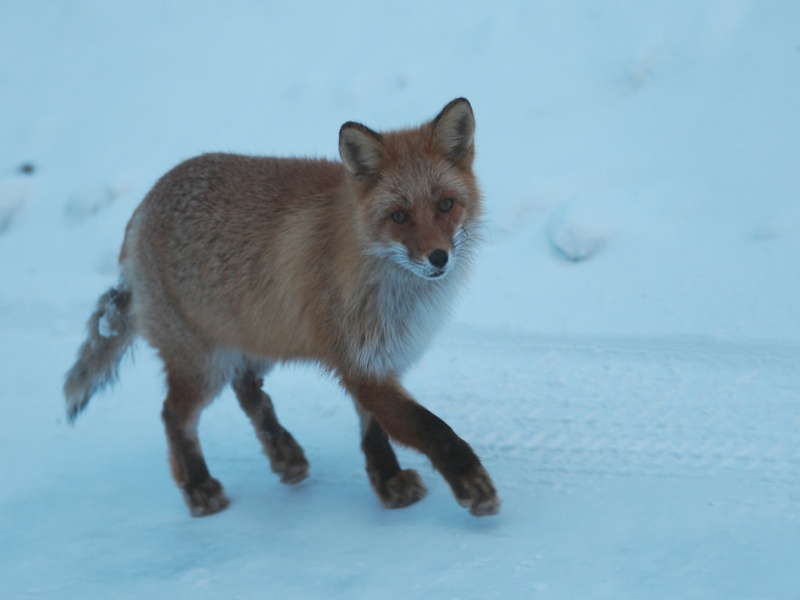fox: (56, 92, 514, 531)
